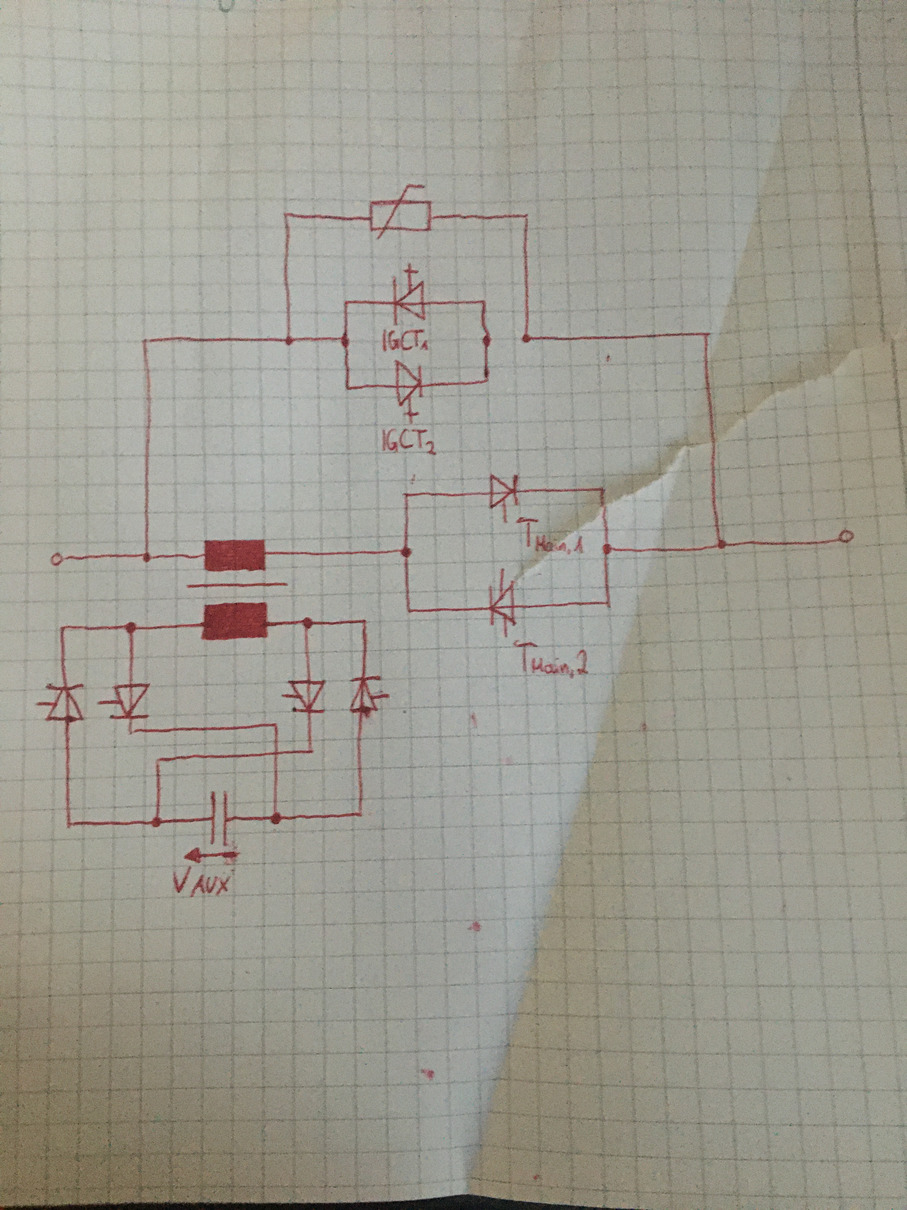capacitor.unpolarized: (206, 788, 232, 848)
crossover: (270, 747, 283, 759)
junction: (299, 614, 315, 631), (398, 544, 414, 559), (123, 620, 139, 635), (268, 811, 284, 826), (339, 332, 353, 348), (150, 814, 164, 830), (140, 550, 155, 564), (520, 332, 534, 345), (601, 543, 615, 556), (602, 597, 615, 611), (715, 538, 728, 551), (63, 819, 76, 832), (400, 489, 413, 502), (520, 210, 534, 222), (342, 382, 355, 394), (283, 334, 295, 347), (353, 807, 366, 819), (139, 335, 151, 347), (281, 210, 293, 222), (270, 719, 282, 731), (699, 329, 712, 340), (153, 755, 164, 768), (404, 605, 416, 616), (305, 745, 317, 756), (125, 726, 138, 736), (481, 374, 492, 385), (58, 623, 69, 634), (342, 298, 352, 309), (359, 616, 370, 626), (597, 484, 607, 493), (479, 297, 488, 305)
terminal: (835, 527, 857, 547), (48, 550, 68, 568)
text: (512, 639, 592, 681), (514, 515, 587, 557), (169, 864, 232, 900), (380, 426, 438, 458), (380, 325, 432, 354)
thyristor: (391, 266, 427, 325), (392, 357, 425, 420), (43, 682, 86, 723), (107, 682, 151, 721), (287, 678, 328, 716), (487, 578, 517, 629), (347, 674, 383, 716), (488, 471, 521, 514)
transformer: (184, 537, 291, 642)
varistor: (366, 181, 434, 240)
